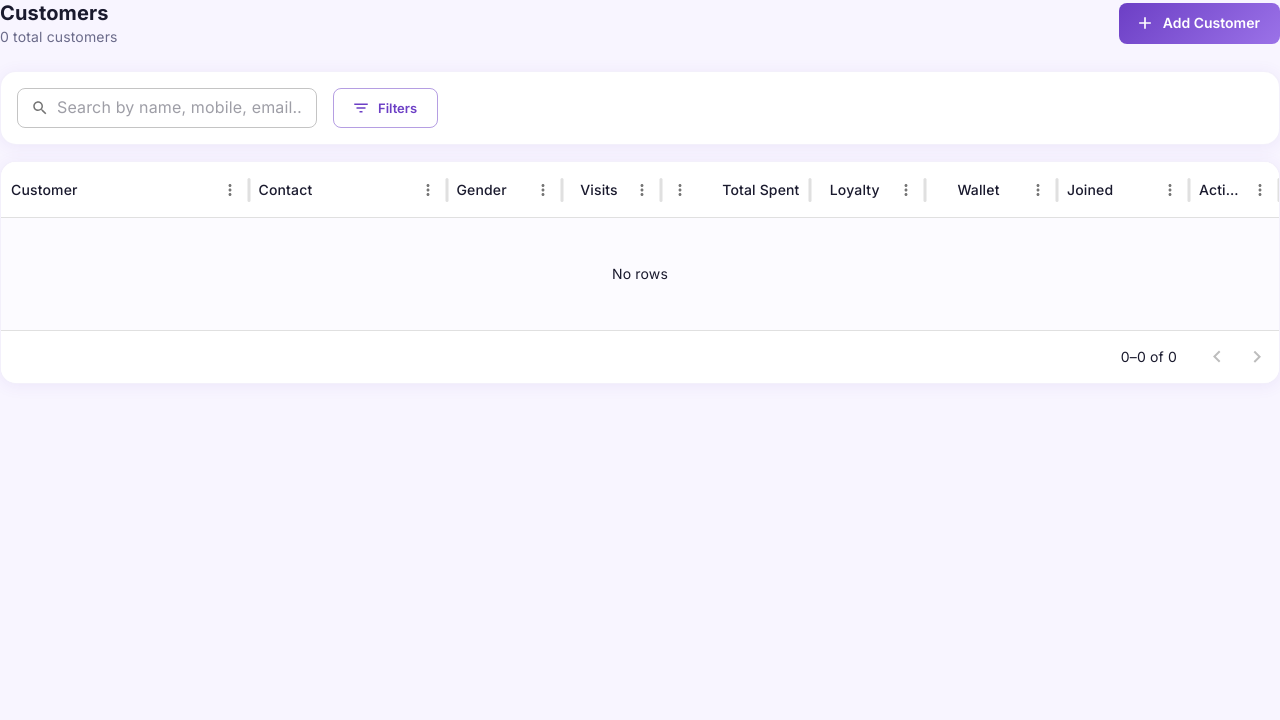
Scenario: CustomersPage – Add Customer dialog › closes the dialog on Cancel
Step 1. Click the button "Add Customer" → (1199,23), box [1119, 3, 1279, 44]
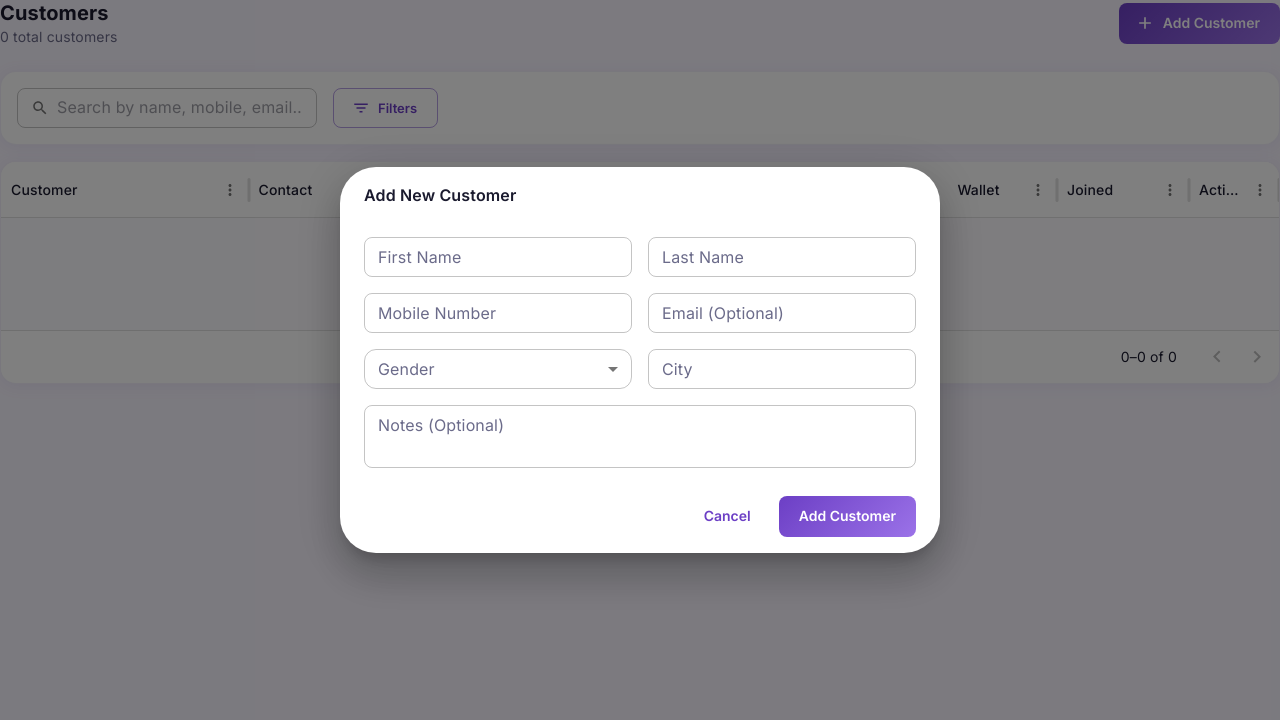
Check: the dialog is shown, box [340, 168, 940, 553]
Step 2. Click the button "Cancel" → (727,516), box [684, 496, 771, 536]
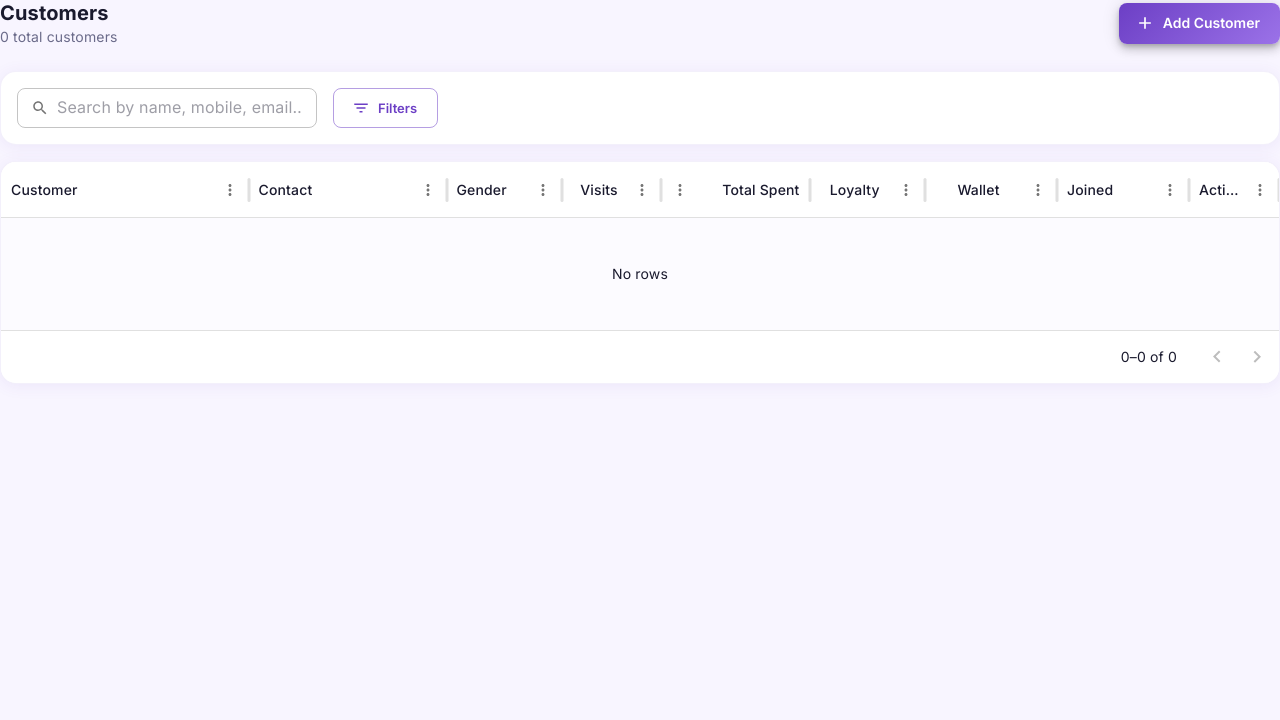
Check: the dialog is gone
